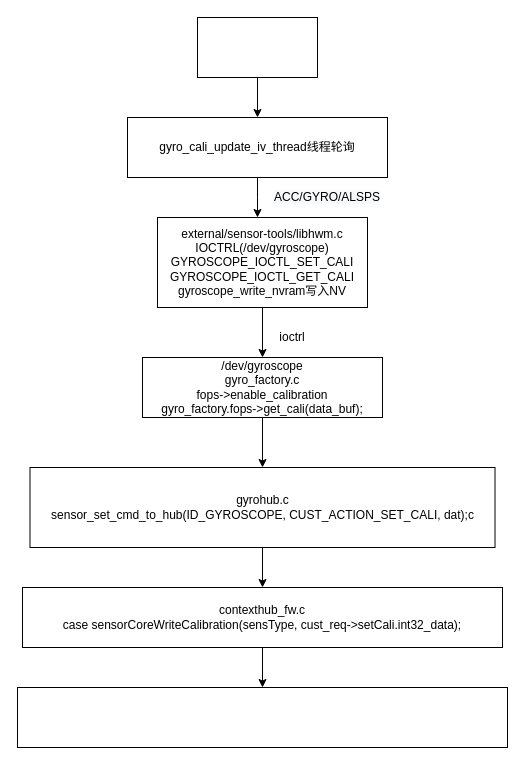
The diagram is 525 pixels wide and 765 high, and some of its shapes have lost their labels. Here are the shapes that lost their labels. From the top down, the centre of each, then its label:
At pixel 257 47: "factory.bin".
At pixel 262 717: "qmi8658_i2c.c mInfo.setCalibration = accSetCalibration;".
